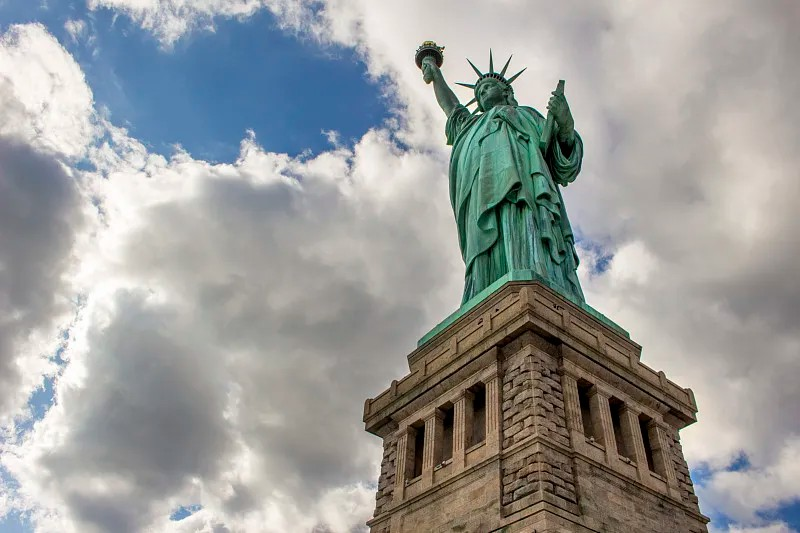SL: (363, 40, 710, 533)
